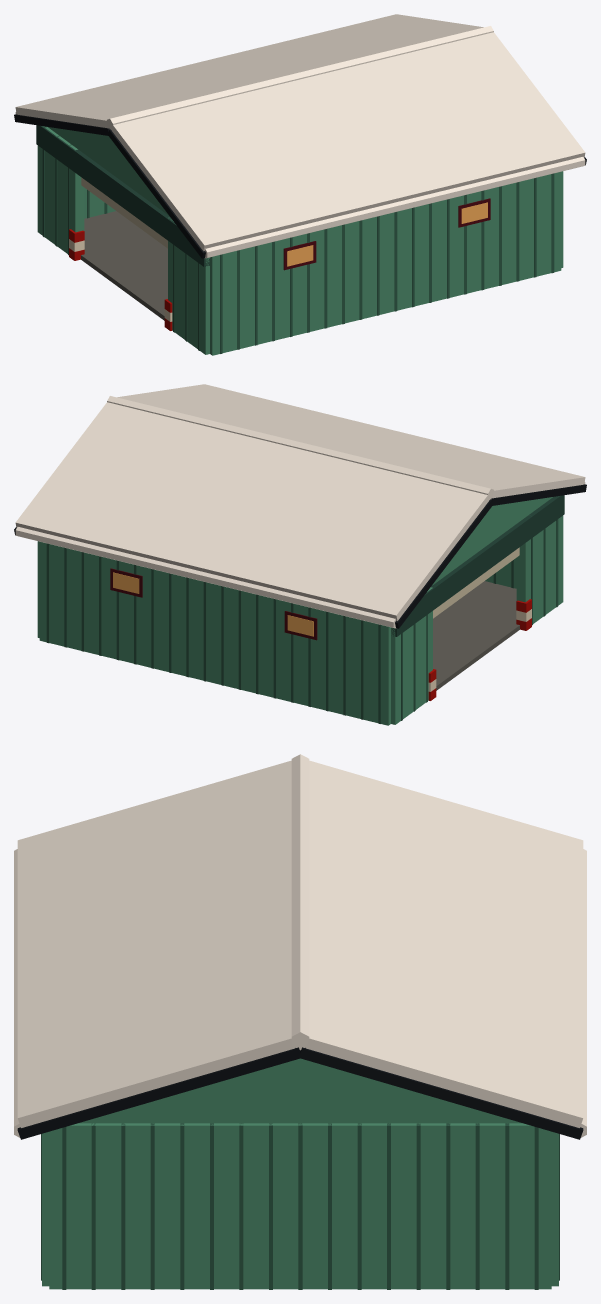
Rendered from rs_garage.glb.
The picture shows the model from 3 angles, top to bottom: view 1: azimuth 30°, elevation 25°; view 2: azimuth 150°, elevation 25°; view 3: azimuth 270°, elevation 25°; orthographic projection. The views are drawn at different scales.
Visible parts, largest first — view 1: roof, wall_s, front, floor, wall_n; view 2: roof, wall_n, front, floor, wall_s; view 3: roof, wall_e, wall_n, wall_s.
Part boxes in pixels (<box>): roof: <box>14,14,586,258</box>; wall_s: <box>210,172,561,355</box>; front: <box>36,125,209,354</box>; floor: <box>81,211,167,320</box>; wall_n: <box>84,188,115,218</box>; roof: <box>14,384,586,628</box>; wall_n: <box>39,542,390,725</box>; front: <box>391,495,564,724</box>; floor: <box>433,581,519,690</box>; wall_s: <box>485,558,516,588</box>; roof: <box>14,754,586,1139</box>; wall_e: <box>49,1123,551,1289</box>; wall_n: <box>551,1132,559,1286</box>; wall_s: <box>41,1132,49,1286</box>.
Size of the model in its own units: 13.2 by 5.85 by 11.41.
